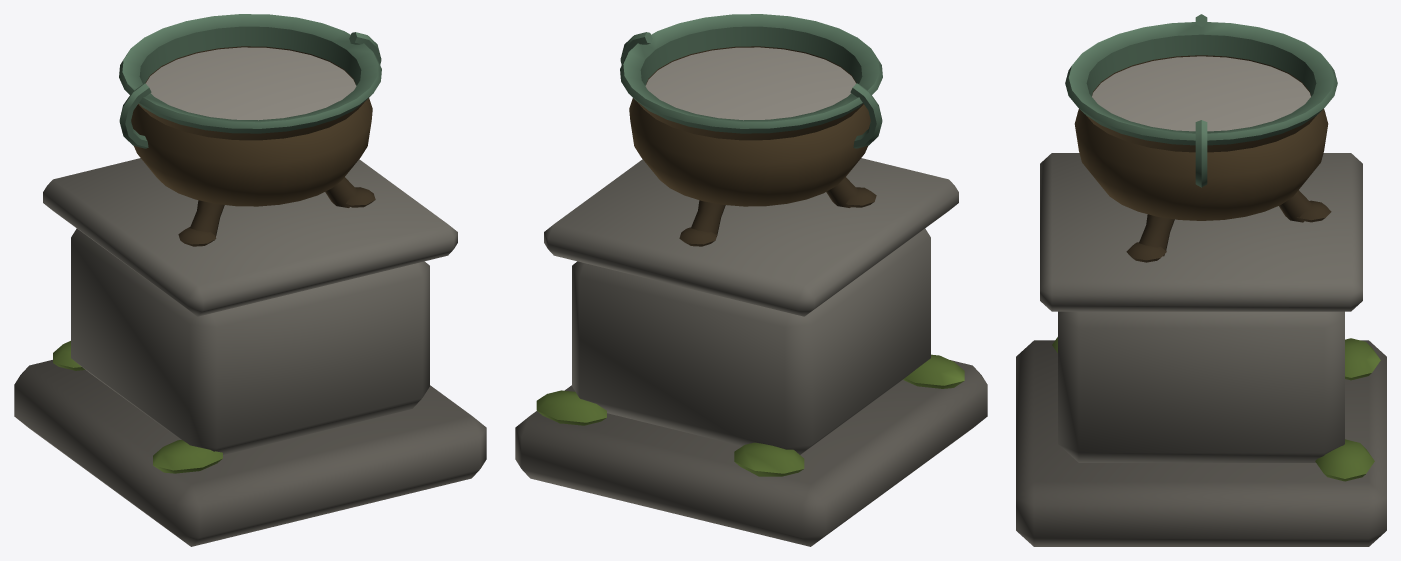
The model's file is koro.glb.
3 renders of one model, left to right at view 1: azimuth 30°, elevation 25°; view 2: azimuth 150°, elevation 25°; view 3: azimuth 270°, elevation 25°, orthographic. The views are drawn at different scales.
Parts seen in each view (by area): view 1: plinth, koro, plinth_low, plinth_top, moss_0; view 2: plinth, koro, plinth_low, plinth_top, moss_2, moss_1, moss_0; view 3: koro, plinth, plinth_low, plinth_top, moss_1, moss_2.
Part boxes in pixels (x1,y1,x2,y2): plinth: [71, 228, 429, 454]; koro: [119, 14, 381, 246]; plinth_low: [14, 360, 486, 546]; plinth_top: [43, 158, 457, 316]; moss_0: [153, 440, 222, 473]; plinth: [572, 228, 930, 454]; koro: [620, 14, 882, 246]; plinth_low: [515, 360, 987, 546]; plinth_top: [544, 158, 958, 316]; moss_2: [734, 442, 804, 476]; moss_1: [536, 390, 606, 425]; moss_0: [903, 354, 964, 388]; koro: [1065, 14, 1337, 262]; plinth: [1058, 311, 1344, 462]; plinth_low: [1016, 340, 1386, 546]; plinth_top: [1040, 153, 1362, 311]; moss_1: [1315, 439, 1374, 481]; moss_2: [1345, 338, 1380, 380].
Size of what is drawn, in the model's own units: 0.62 by 0.755 by 0.62.
